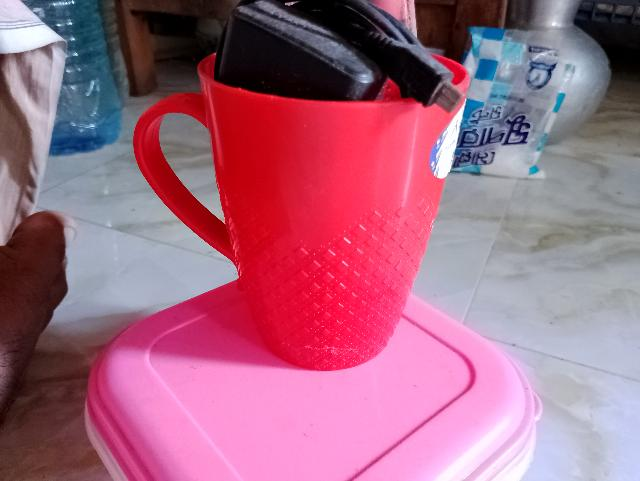hardplastic: (134, 35, 502, 398)
